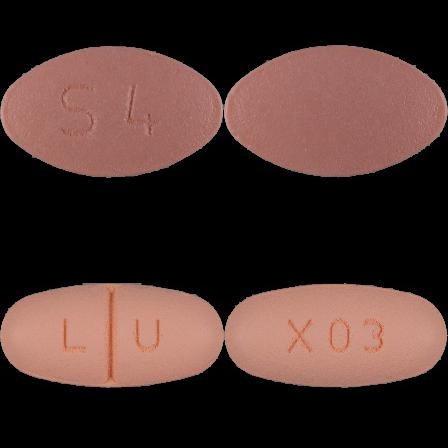35356-604: (0, 0, 224, 224)
